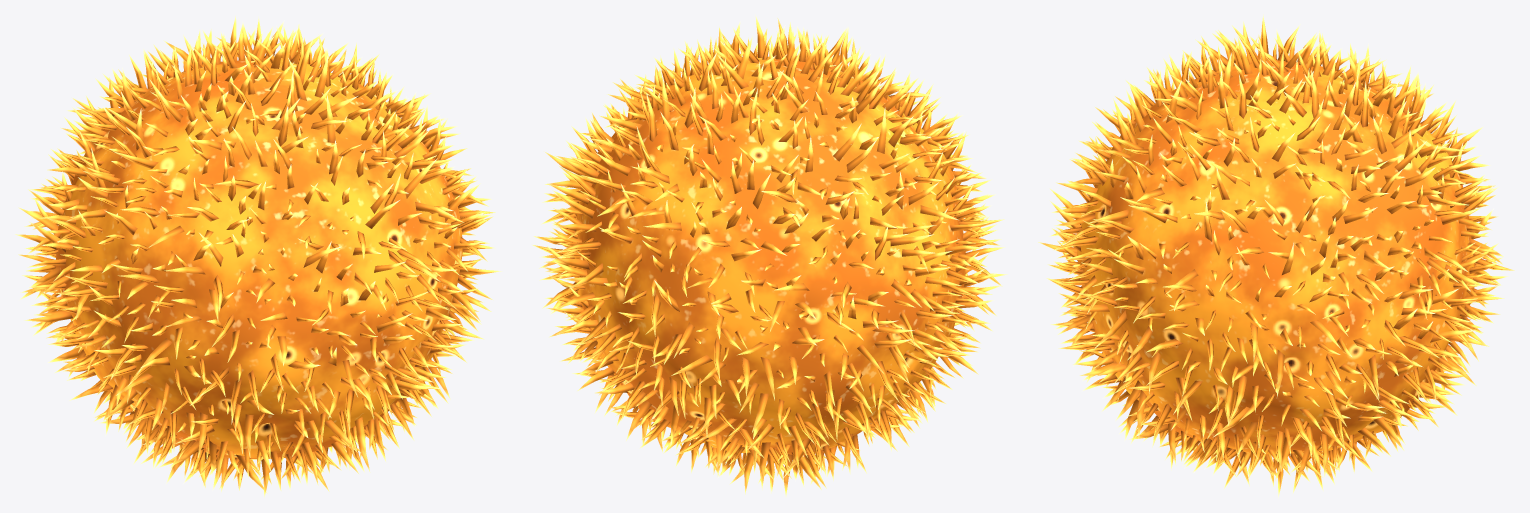
File: SM_EnemySpore.fbx
3 renders of one model, left to right at view 1: azimuth 30°, elevation 25°; view 2: azimuth 150°, elevation 25°; view 3: azimuth 270°, elevation 25°, orthographic. The views are drawn at different scales.
Visible parts, largest first — view 1: SM_EnemySpore; view 2: SM_EnemySpore; view 3: SM_EnemySpore.
Boxes of the visible parts, <box> form: SM_EnemySpore: <box>15,15,502,497</box>; SM_EnemySpore: <box>532,14,1007,497</box>; SM_EnemySpore: <box>1038,14,1514,498</box>.
Bounding box in the file's own units: 97.06 × 95.18 × 97.18.
Materials: 1 (1 with a texture image).
